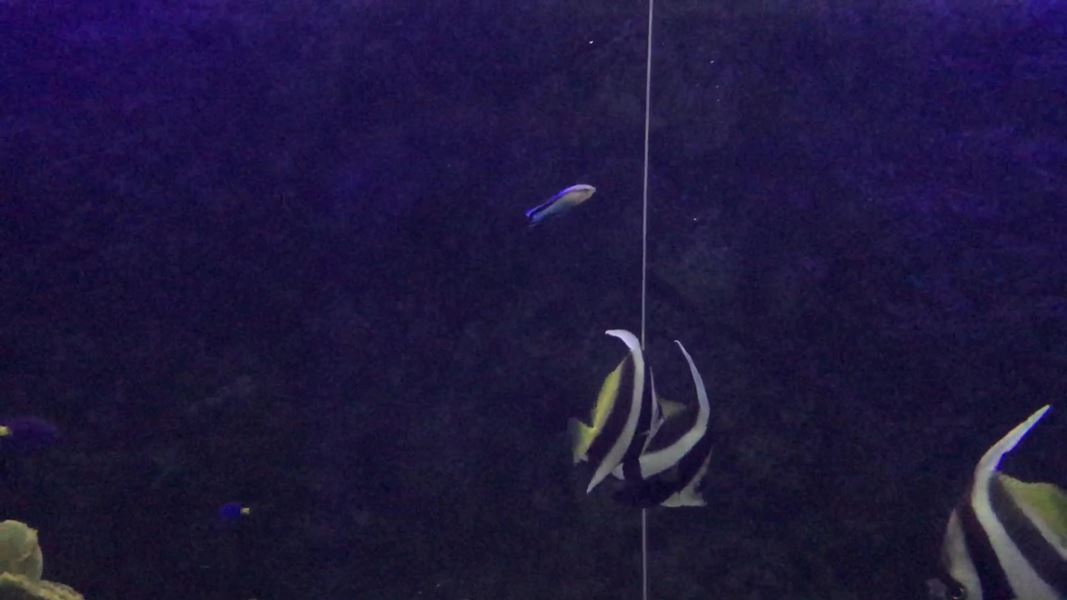Bluesteak cleaner wrasse: (524, 177, 597, 242)
